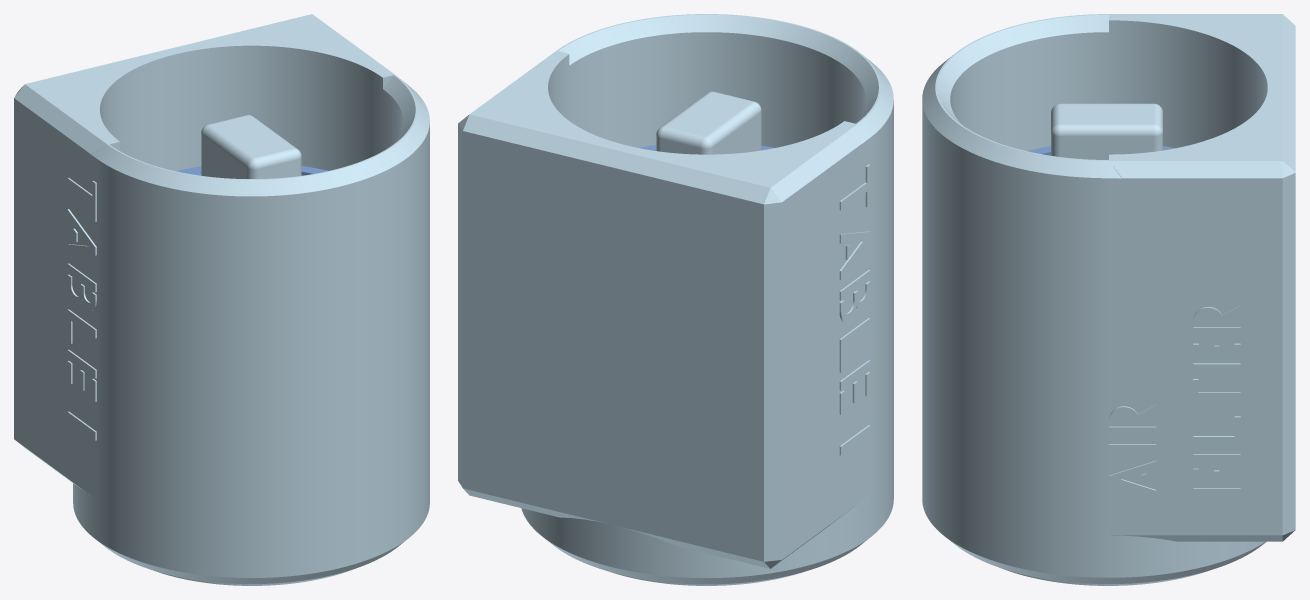
File: Assembly 1.gltf
3 views of the same model, side by side, from view 1: azimuth 30°, elevation 25°; view 2: azimuth 150°, elevation 25°; view 3: azimuth 270°, elevation 25° (orthographic). The views are drawn at different scales.
Visible parts, largest first — view 1: Part 1 (×2); view 2: Part 1 (×2); view 3: Part 1 (×2).
Part boxes in pixels (bbox=[...]): Part 1 (×2): bbox=[14, 14, 429, 583]; Part 1 (×2): bbox=[458, 14, 893, 584]; Part 1 (×2): bbox=[922, 14, 1295, 583].
Size of the model in its own units: 0.0513 by 0.0647 by 0.0508.
